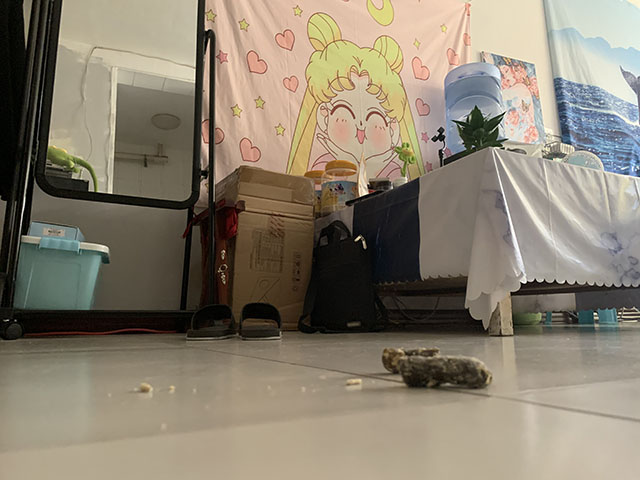feces: (382, 346, 494, 391)
slippers: (186, 302, 282, 343)
table: (315, 146, 640, 339)
wire: (376, 296, 441, 328), (24, 327, 187, 336)
